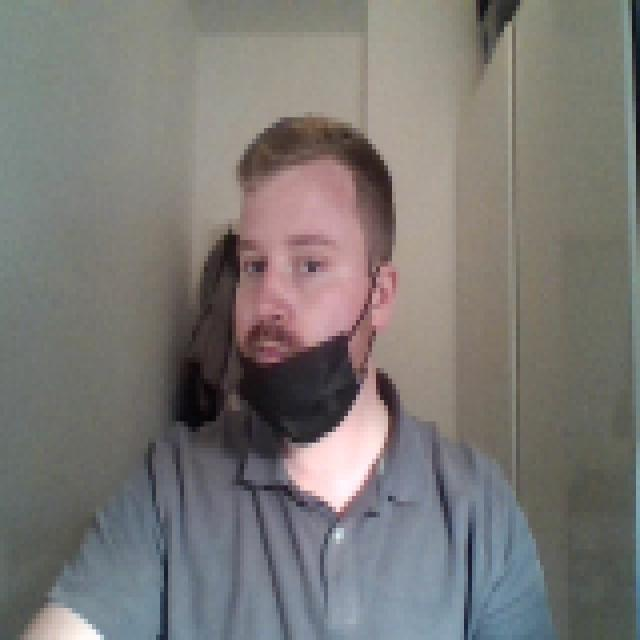hairnet: (204, 241, 408, 458)
